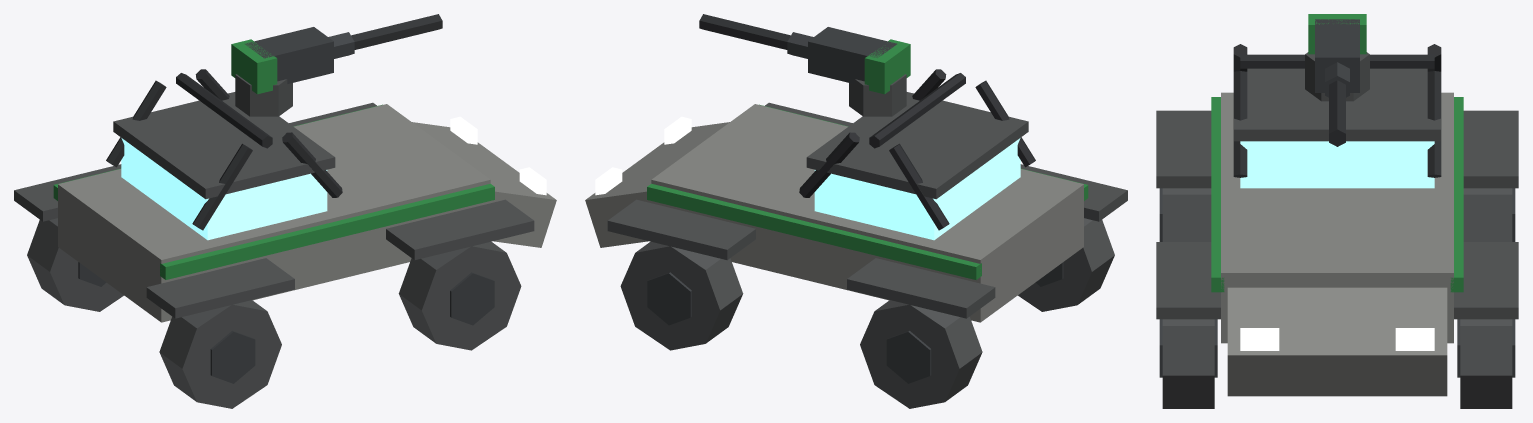
File: u_scout_lod1.glb
3 renders of one model, left to right at view 1: azimuth 30°, elevation 25°; view 2: azimuth 150°, elevation 25°; view 3: azimuth 270°, elevation 25°, orthographic. The views are drawn at different scales.
Parts seen in each view (by area): view 1: Scout_LOD1_Walls, Scout_LOD1_Foundation, Scout_LOD1_Details, Scout_LOD1_turret, Scout_LOD1_Frame; view 2: Scout_LOD1_Walls, Scout_LOD1_Foundation, Scout_LOD1_Details, Scout_LOD1_turret, Scout_LOD1_Frame; view 3: Scout_LOD1_Walls, Scout_LOD1_Foundation, Scout_LOD1_Details, Scout_LOD1_turret, Scout_LOD1_Frame.
Part boxes in pixels (x1,y1,x2,y2): Scout_LOD1_Walls: [14, 92, 556, 322]; Scout_LOD1_Foundation: [27, 218, 521, 408]; Scout_LOD1_Details: [53, 69, 546, 279]; Scout_LOD1_turret: [231, 14, 442, 116]; Scout_LOD1_Frame: [78, 262, 494, 383]; Scout_LOD1_Walls: [585, 92, 1127, 322]; Scout_LOD1_Foundation: [620, 218, 1114, 408]; Scout_LOD1_Details: [595, 69, 1088, 279]; Scout_LOD1_turret: [699, 14, 910, 116]; Scout_LOD1_Frame: [647, 262, 1063, 383]; Scout_LOD1_Walls: [1156, 68, 1518, 396]; Scout_LOD1_Foundation: [1162, 188, 1512, 408]; Scout_LOD1_Details: [1211, 44, 1463, 350]; Scout_LOD1_turret: [1305, 14, 1369, 146]; Scout_LOD1_Frame: [1159, 188, 1515, 377].
Size of the model in its own units: 0.8288 by 0.53 by 0.56.
